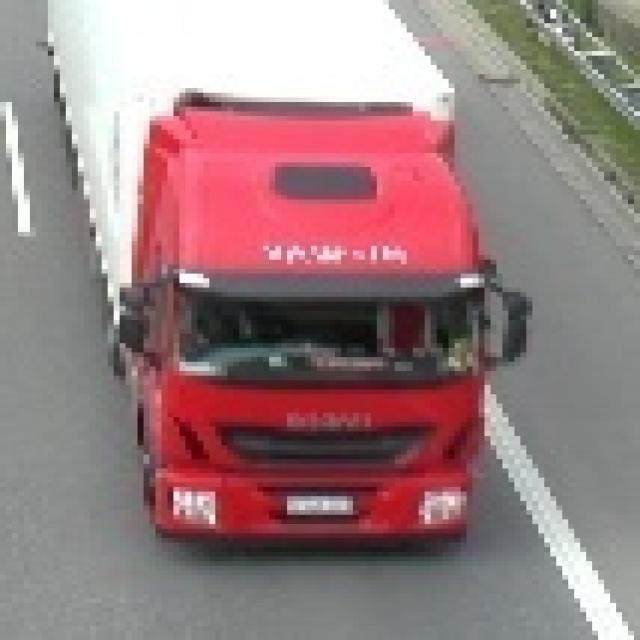TRUCK: (42, 0, 490, 552)
